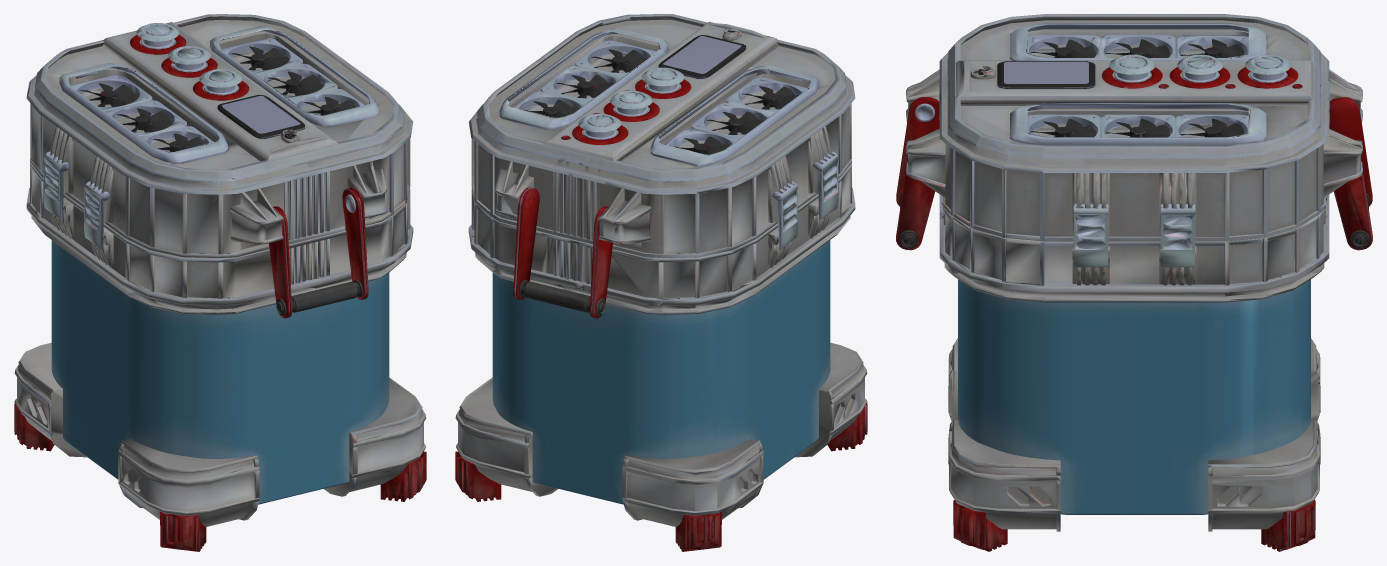
File: soul-chamber.glb
The picture shows the model from 3 angles, left to right: view 1: azimuth 30°, elevation 25°; view 2: azimuth 150°, elevation 25°; view 3: azimuth 270°, elevation 25°; orthographic projection. The views are drawn at different scales.
Parts seen in each view (by area): view 1: Cylinder.011; view 2: Cylinder.011; view 3: Cylinder.011.
Part boxes in pixels (bbox=[...]): Cylinder.011: bbox=[14, 14, 426, 551]; Cylinder.011: bbox=[455, 14, 867, 551]; Cylinder.011: bbox=[896, 14, 1372, 551].
Bounding box in the file's own units: 75.5 × 95 × 97.02.
1 material, 1 textured.
